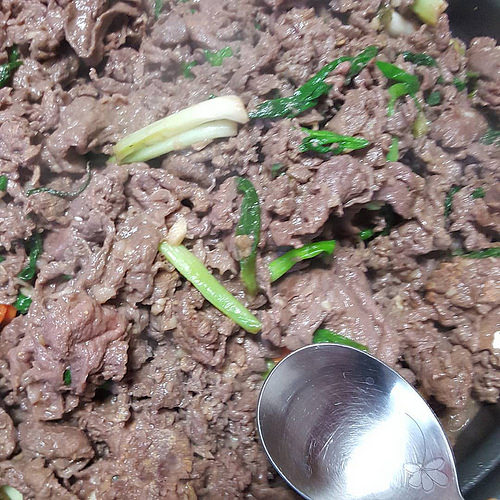bulgogi: (5, 5, 488, 337)
